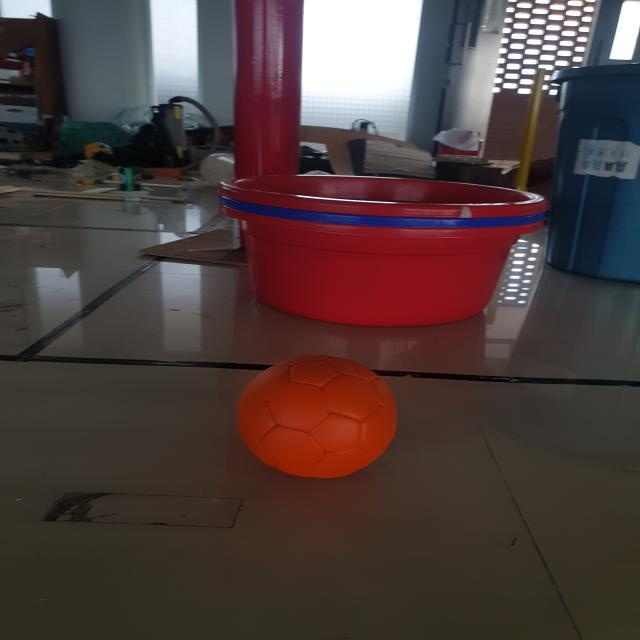bola: (226, 346, 406, 486)
